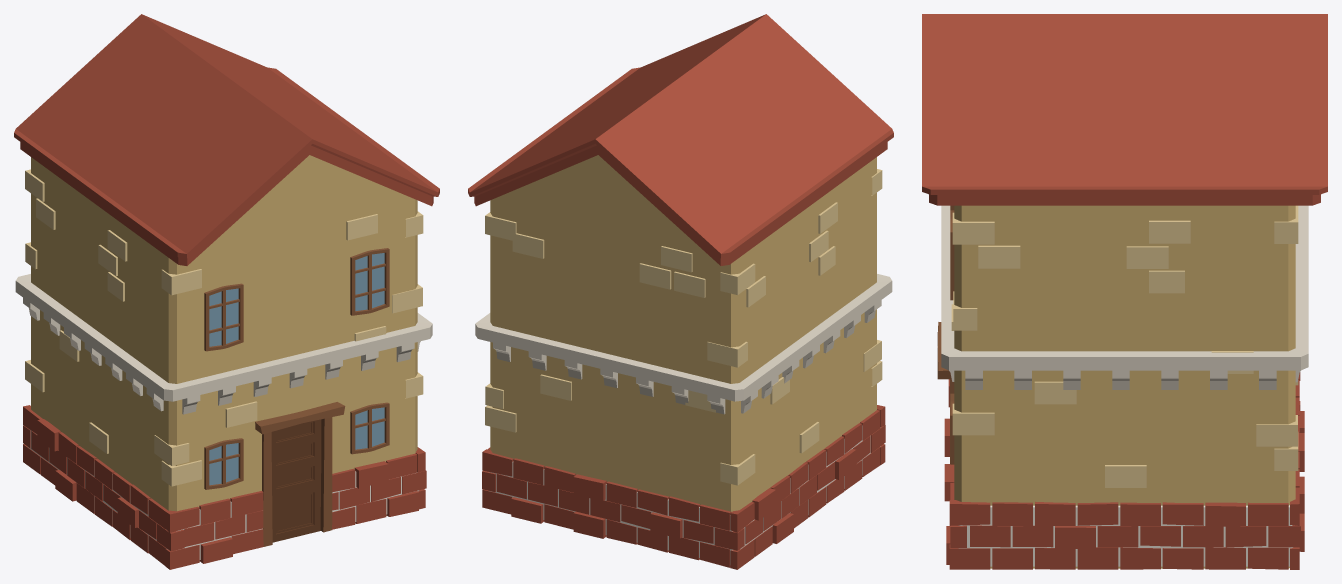
File: q_2Story_GableRoof.obj
3 views of the same model, side by side, from view 1: azimuth 30°, elevation 25°; view 2: azimuth 150°, elevation 25°; view 3: azimuth 270°, elevation 25° (orthographic). The views are drawn at different scales.
Visible parts, largest first — view 1: 2Story_GableRoof_Cube.161; view 2: 2Story_GableRoof_Cube.161; view 3: 2Story_GableRoof_Cube.161.
Part boxes in pixels (bbox=[...]): 2Story_GableRoof_Cube.161: bbox=[14, 14, 439, 569]; 2Story_GableRoof_Cube.161: bbox=[468, 14, 893, 569]; 2Story_GableRoof_Cube.161: bbox=[922, 14, 1327, 569].
Bounding box in the file's own units: 2.16 × 3.13 × 2.38.
Materials: 1 (1 with a texture image).
